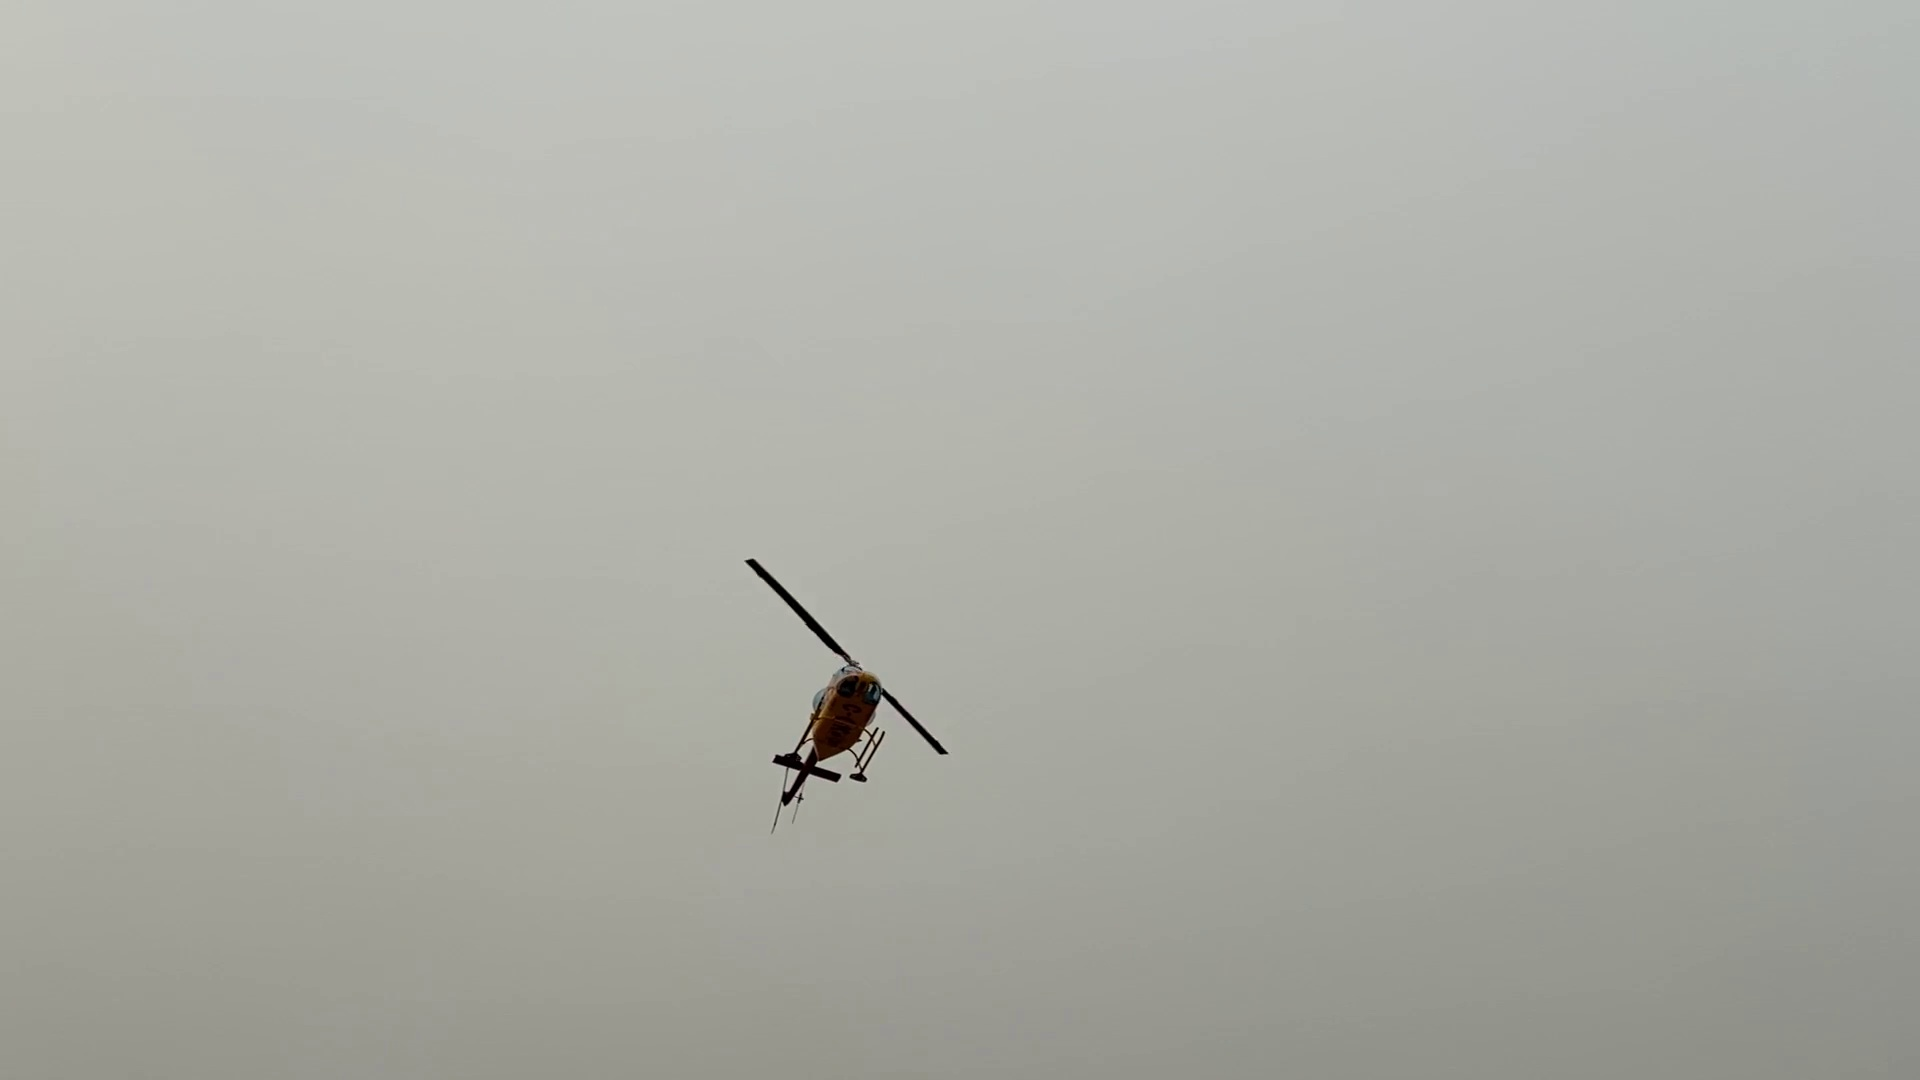heli: (737, 553, 949, 808)
